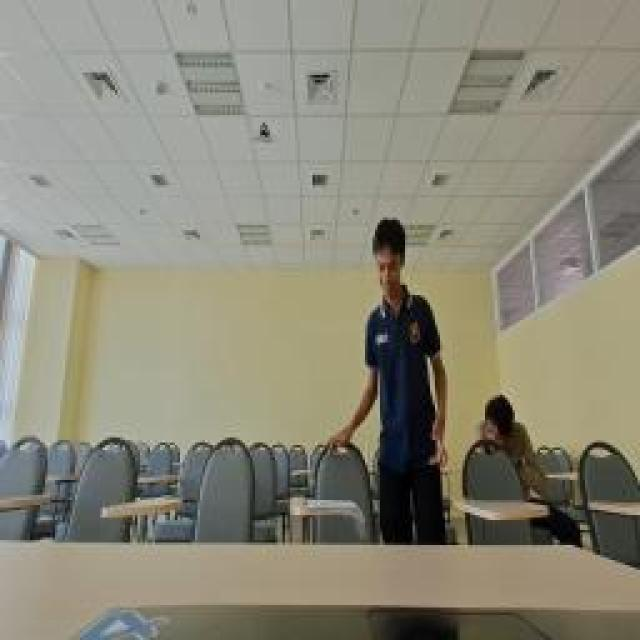sleep: (468, 395, 552, 497)
